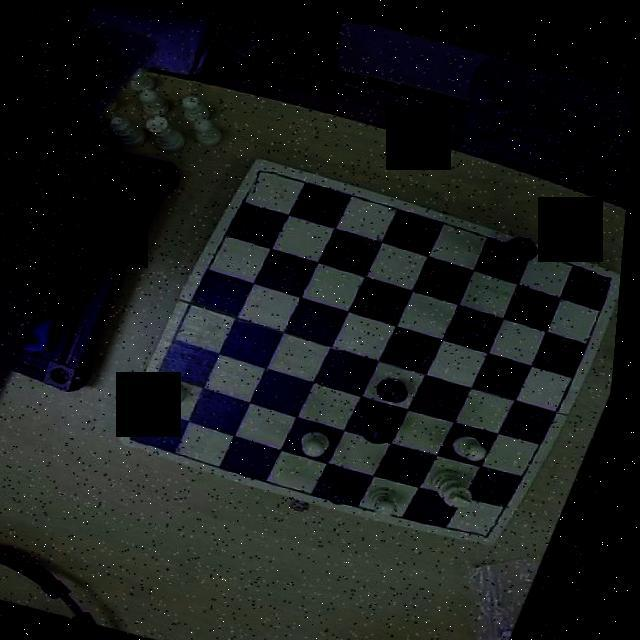chess-table-corners: (244, 155, 287, 194), (128, 411, 166, 447), (590, 256, 626, 290), (477, 508, 512, 540)
